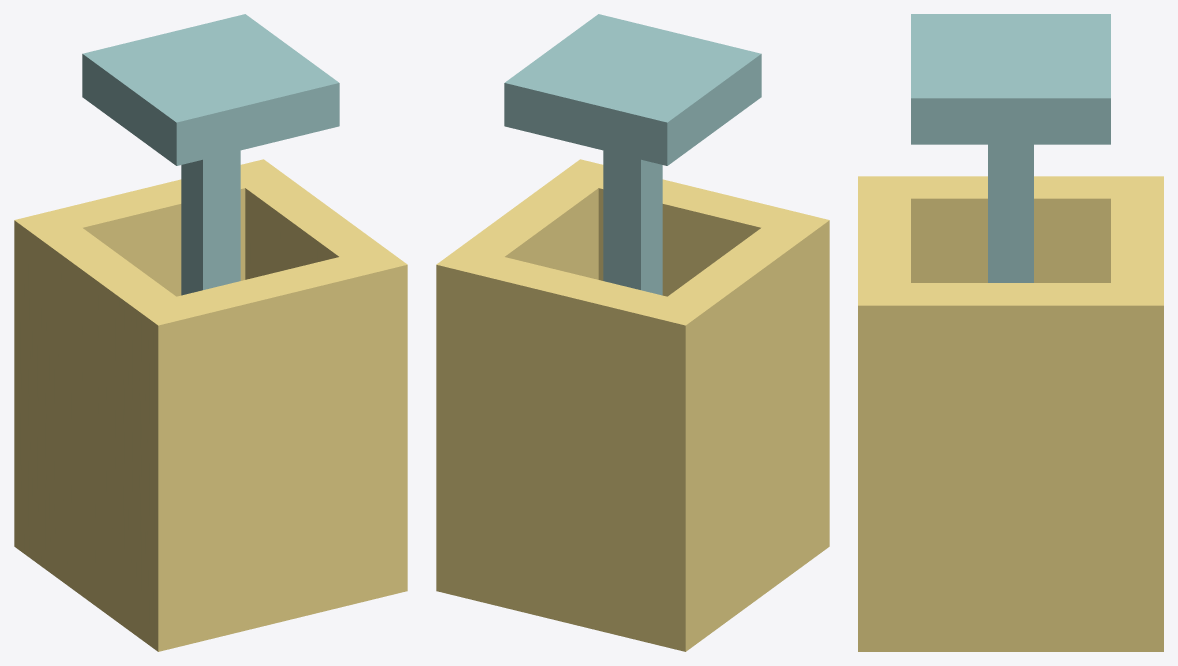
File: lampSquareCeiling.glb
3 renders of one model, left to right at view 1: azimuth 30°, elevation 25°; view 2: azimuth 150°, elevation 25°; view 3: azimuth 270°, elevation 25°, orthographic. The views are drawn at different scales.
Size of the model in its own units: 1.2 by 2.3 by 1.2.
